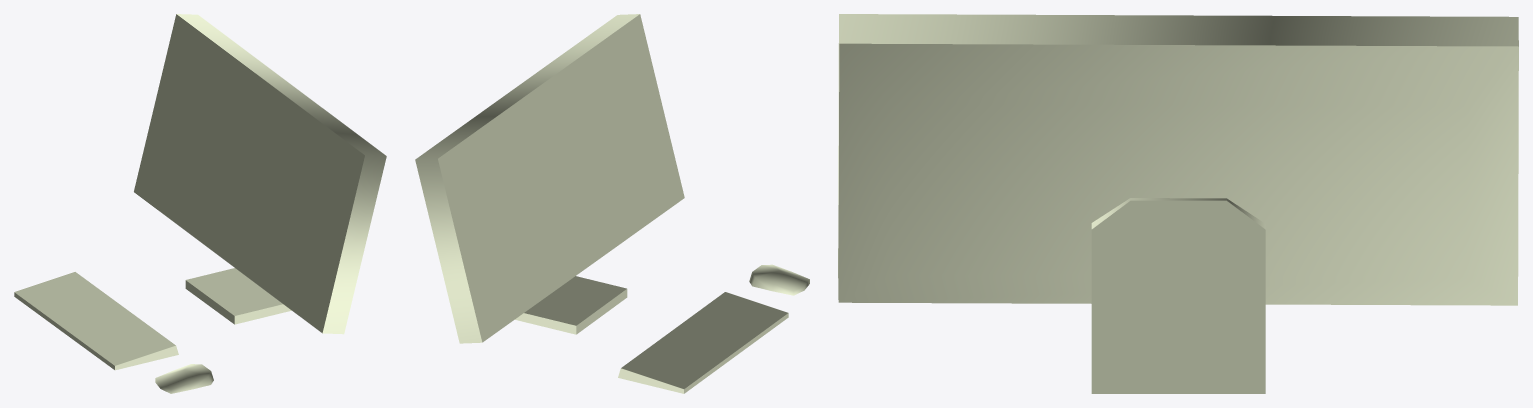
Rendered from cotf_computer.FBX.
3 renders of one model, left to right at view 1: azimuth 30°, elevation 25°; view 2: azimuth 150°, elevation 25°; view 3: azimuth 270°, elevation 25°, orthographic. The views are drawn at different scales.
Visible parts, largest first — view 1: cotf_computer; view 2: cotf_computer; view 3: cotf_computer.
Part boxes in pixels (x1=…): cotf_computer: x1=14, y1=14, x2=386, y2=393; cotf_computer: x1=415, y1=14, x2=809, y2=393; cotf_computer: x1=838, y1=14, x2=1518, y2=393.
Size of the model in its own units: 0.605 by 0.5289 by 0.891.
